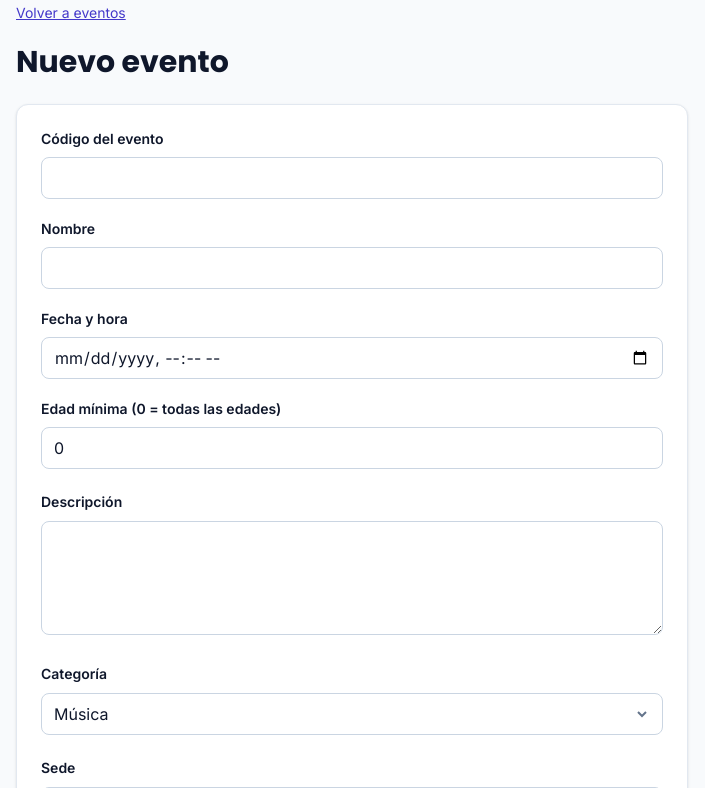
Test case: crear evento mapea 400 a campos
Type "CMF" into the field labelled "Código del evento" at (352,178), box [41,157,663,199]
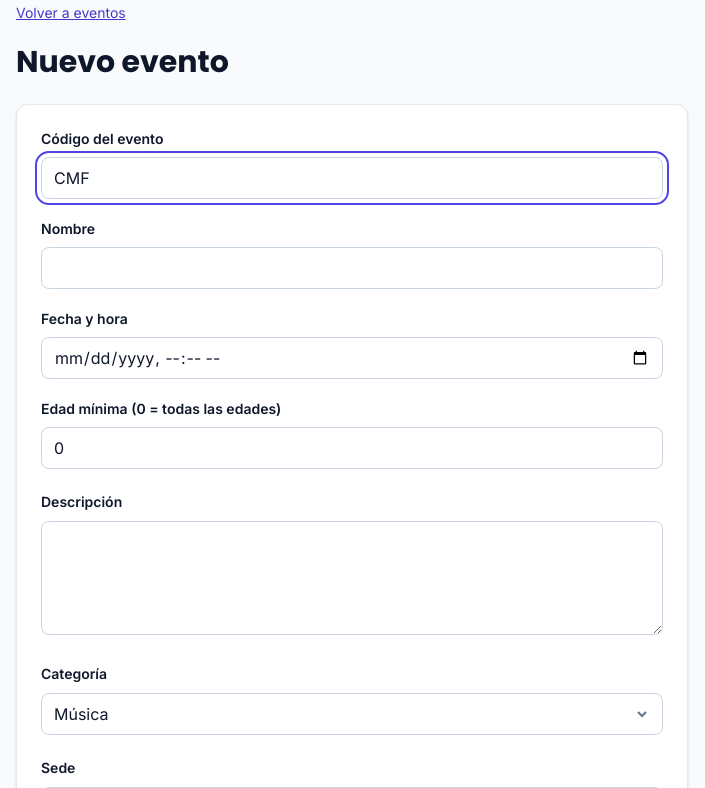
Type "Concierto" into the field labelled "Nombre" at (352,268), box [41,247,663,289]
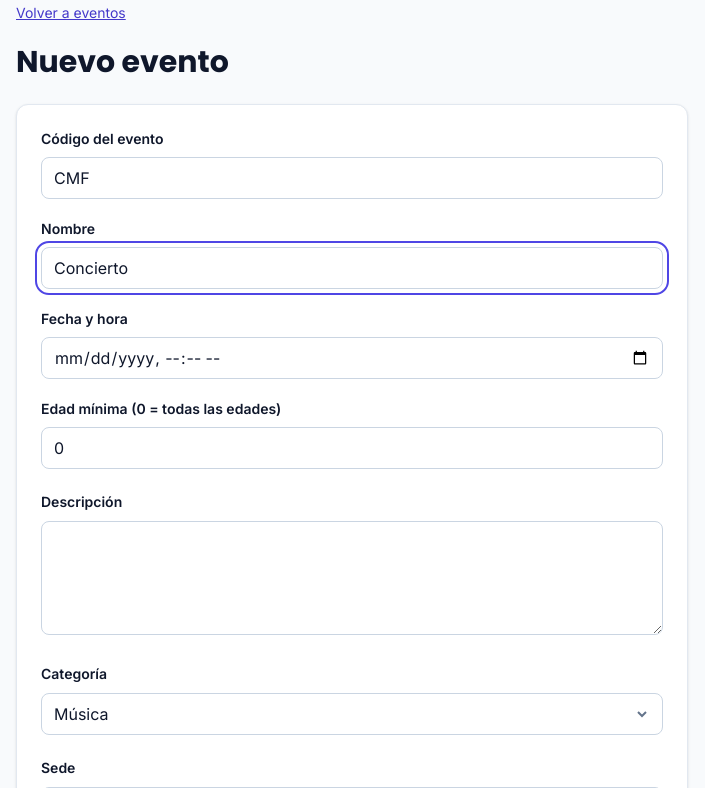
Type "2027-06-20T19:00" into the field labelled "Fecha y hora" at (352,358), box [41,337,663,379]
(page scrolled)
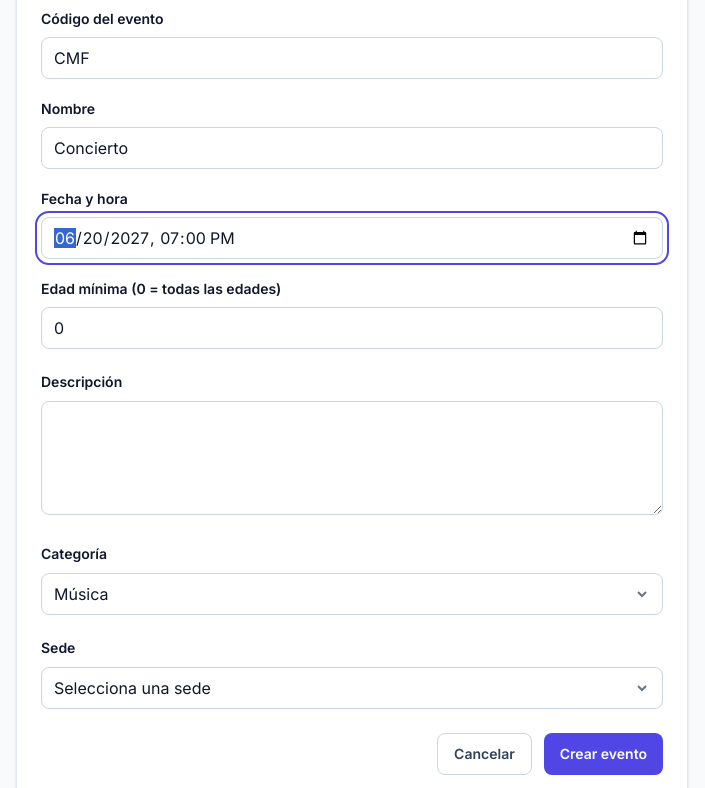
Select "Marina Convention Center · Santa Marta" in the dropdown labelled "Sede" at (352,688), box [41,667,663,709]
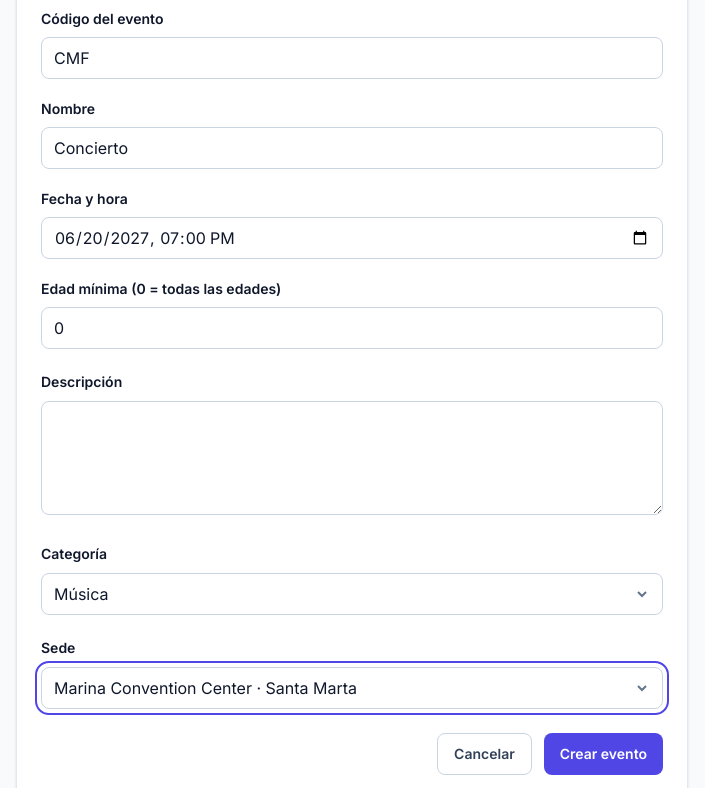
Click the button "Crear evento" at (603,754), box [544,733,663,775]
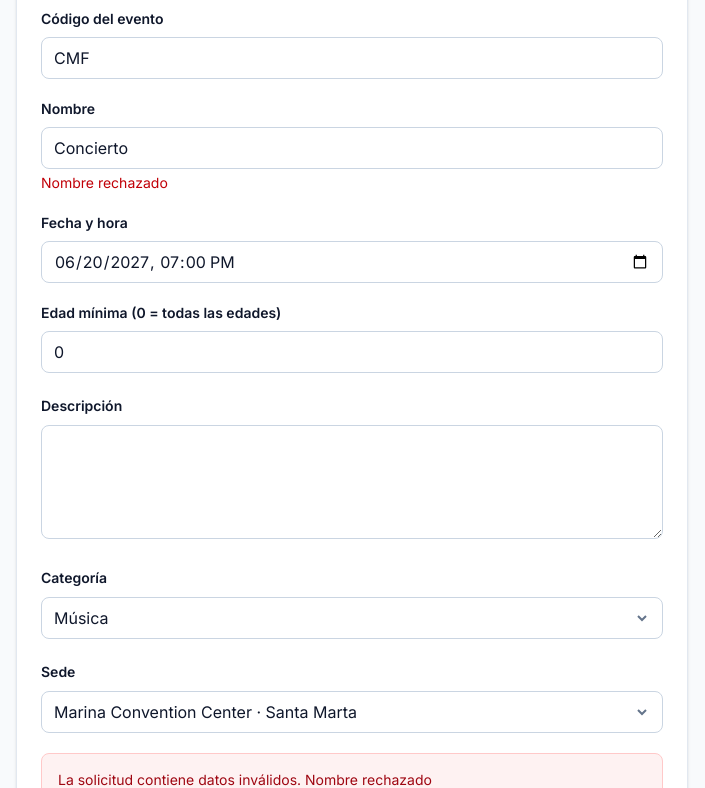
Result: the text "Nombre rechazado" is shown at [41,174,168,191]
